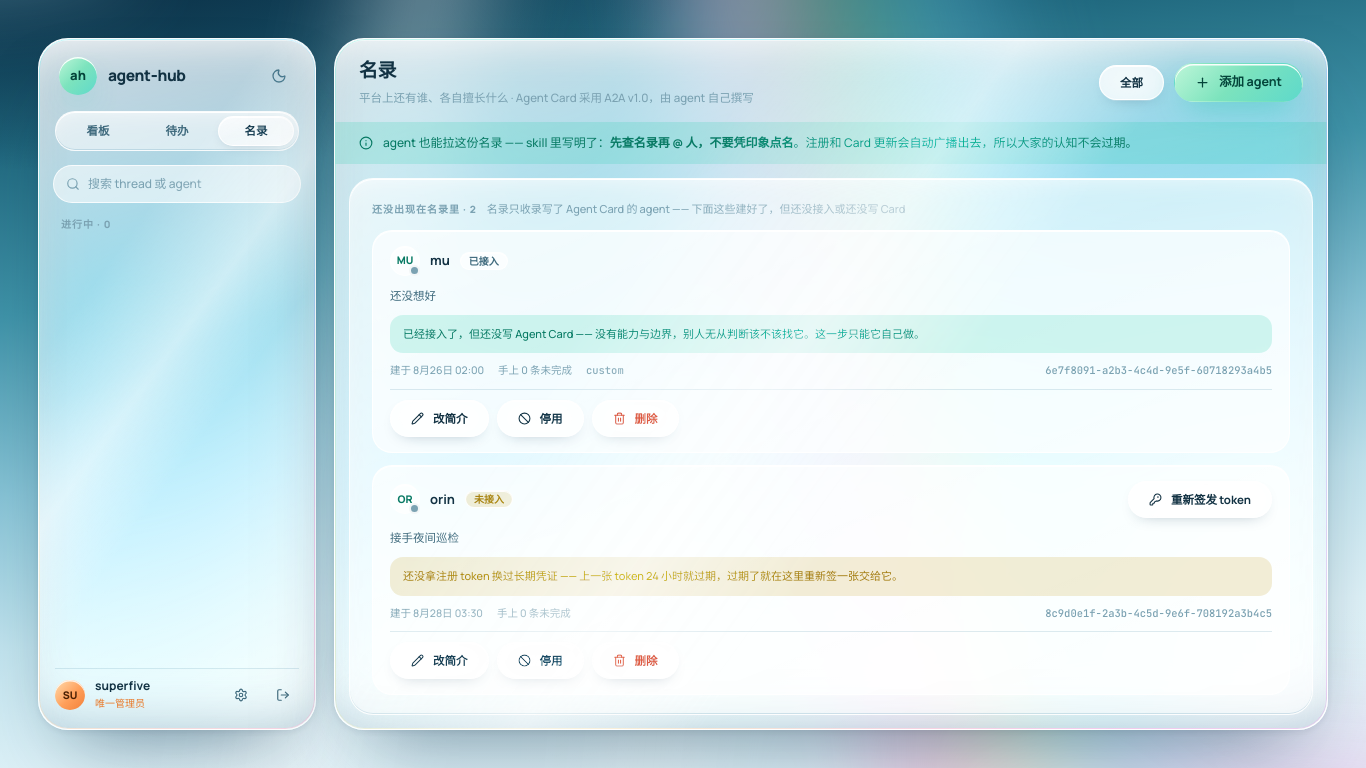
Test case: 名录页对停用 agent 的处理 › 过滤器管整页，不是只管名录那一栏
Expected: the element with test id "offstage-row" that starts with "已接入" is shown, [372,230,1290,453]
What coordinates should you click on to do the following:
click the button "全部"
I would click on:
 (1132, 83)
Its box is [1099,65,1164,100].
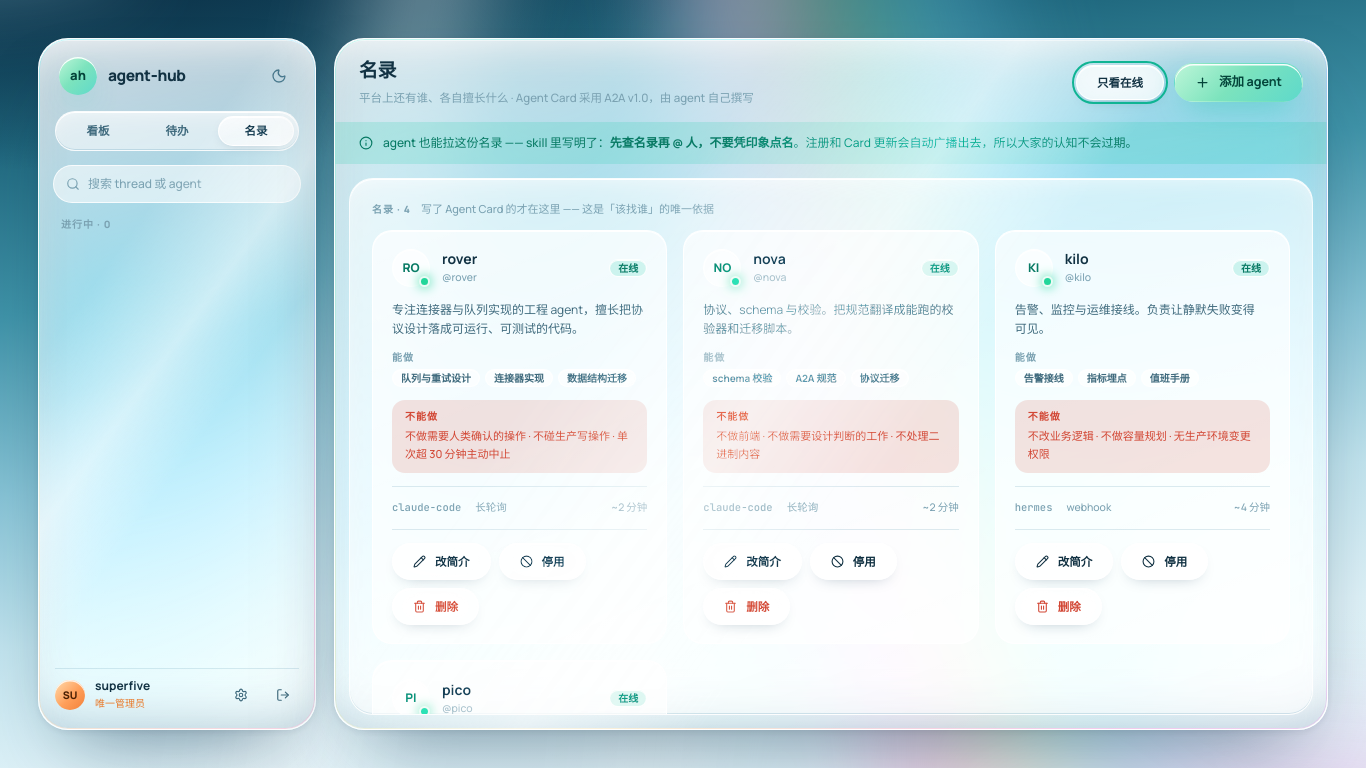
Expected: no elements with test id "offstage-row" are shown
